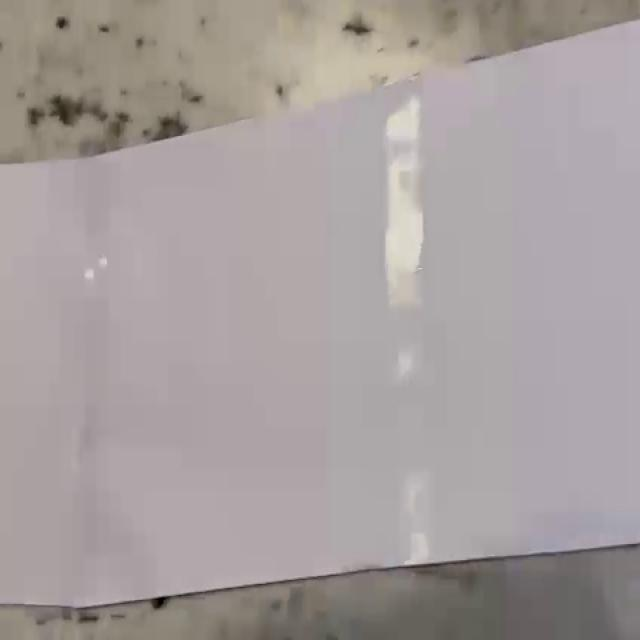road: (0, 20, 640, 607)
